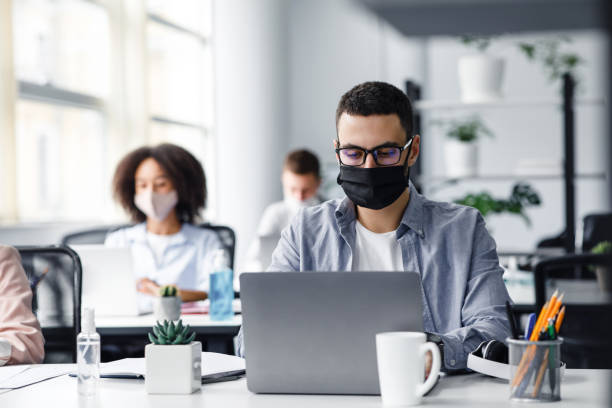with mask: (319, 94, 423, 216), (121, 147, 205, 237)
